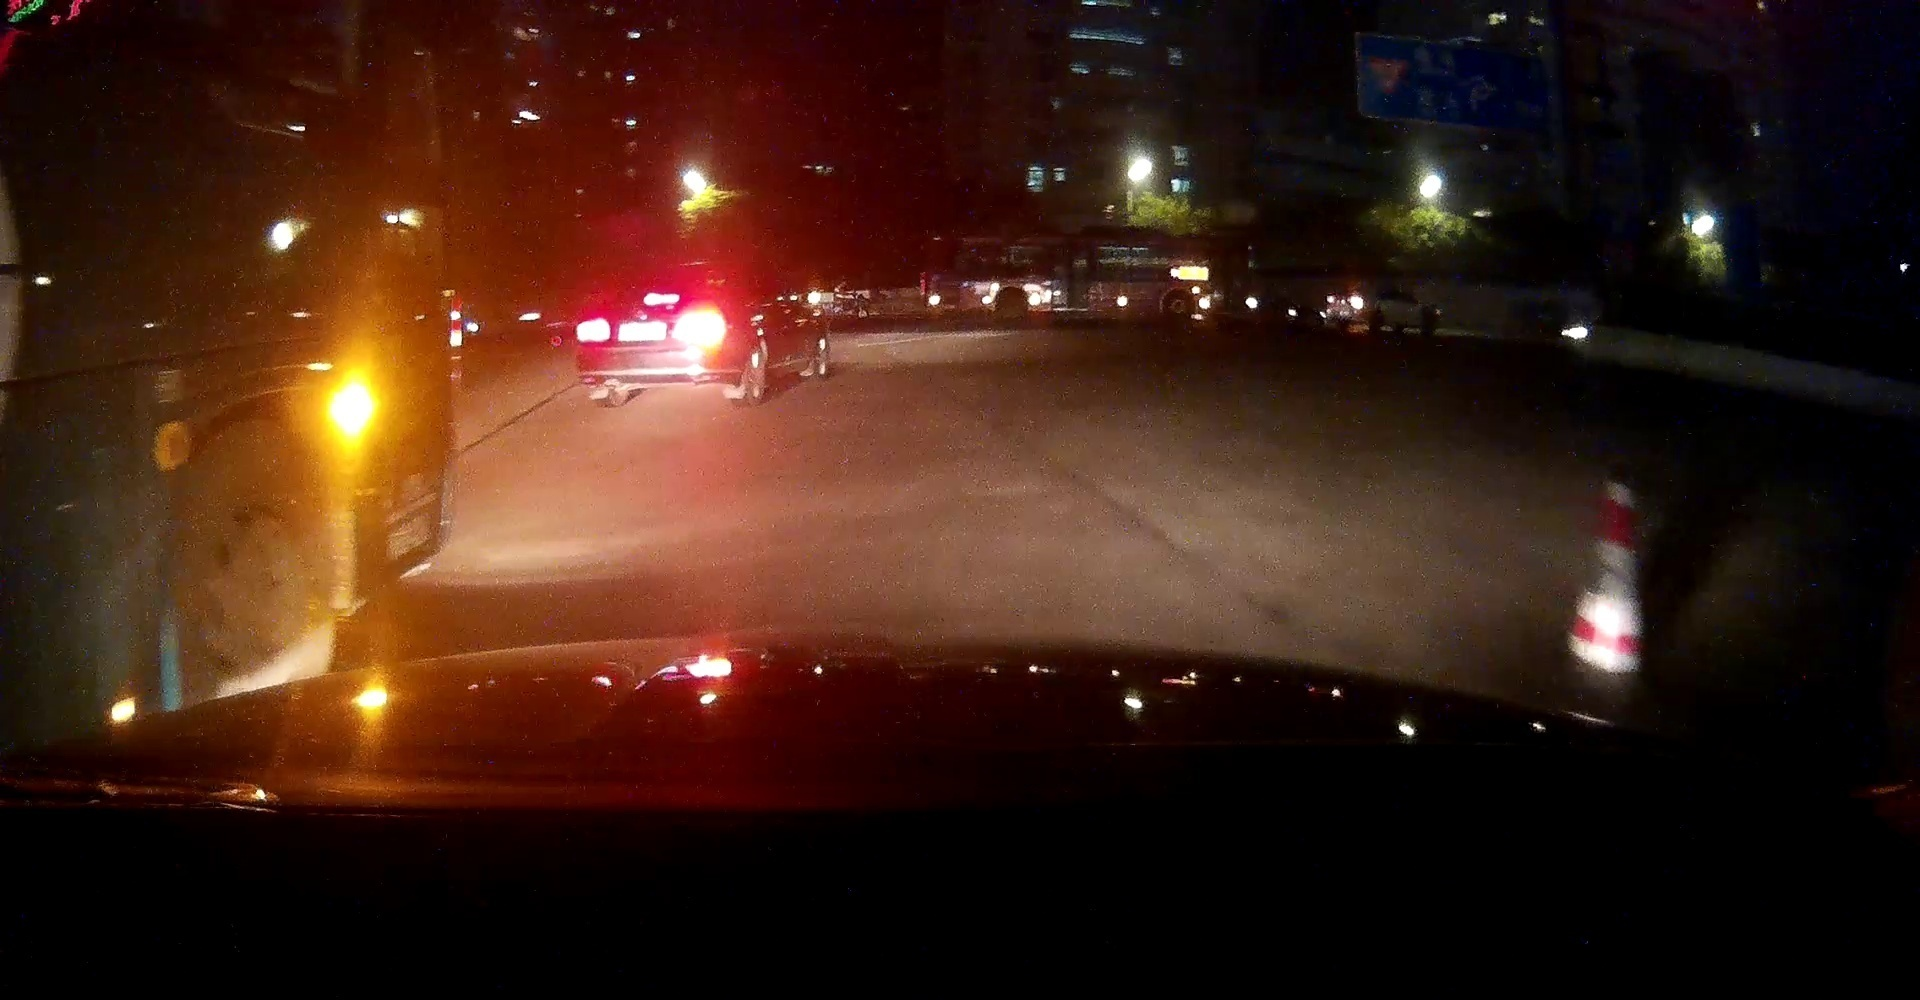L_light: (577, 317, 612, 341)
R_light: (674, 310, 726, 339)
night-brake: (643, 293, 677, 305)
night-right: (574, 261, 739, 409)
